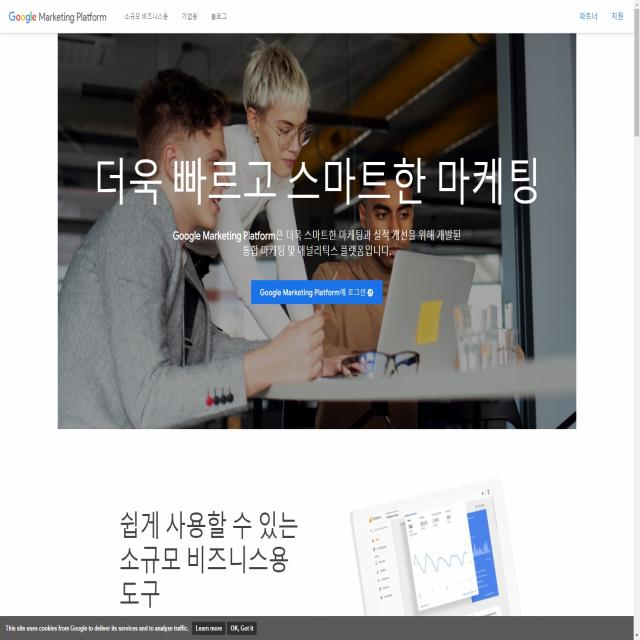menu-bar: (119, 2, 234, 30)
